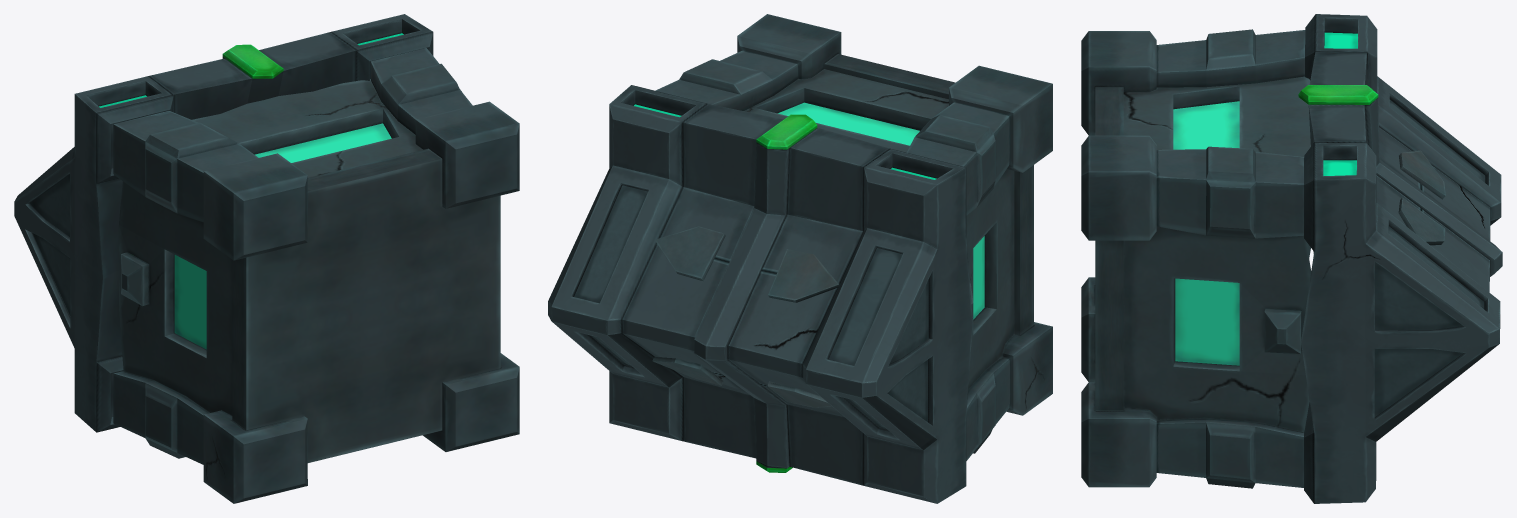
File: chessito.glb
3 views of the same model, side by side, from view 1: azimuth 30°, elevation 25°; view 2: azimuth 150°, elevation 25°; view 3: azimuth 270°, elevation 25° (orthographic).
Visible parts, largest first — view 1: Object_24; view 2: Object_24; view 3: Object_24.
Boxes of the visible parts, x1,y1,x2,y2 form: Object_24: (14,14,519,503); Object_24: (548,14,1052,503); Object_24: (1081,14,1502,503).
Bounding box in the file's own units: 3.95 × 3.73 × 4.23.
Materials: 1 (1 with a texture image).
